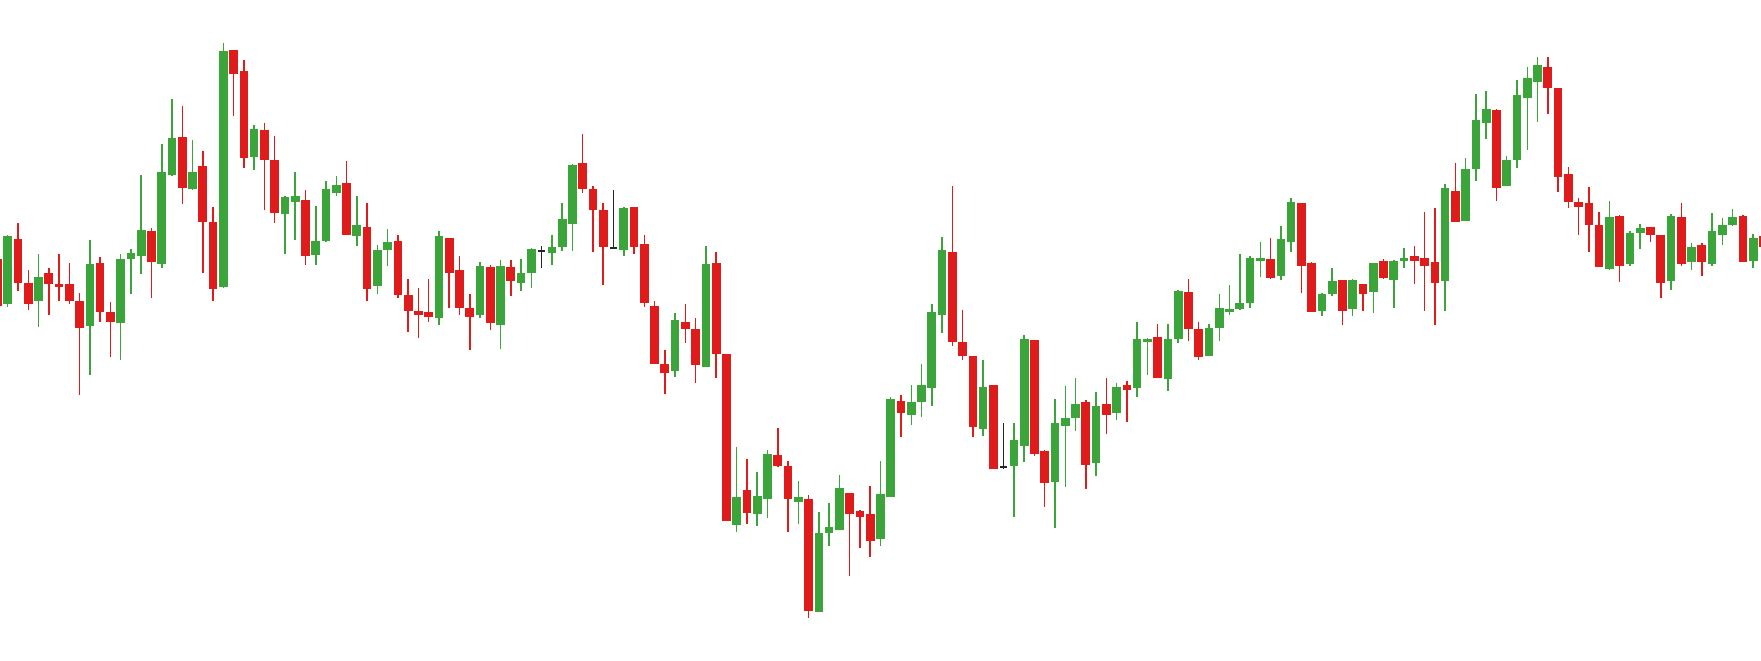buy: (1369, 246, 1450, 323), (1009, 413, 1060, 527)
sell: (343, 132, 588, 272), (168, 44, 250, 208)
